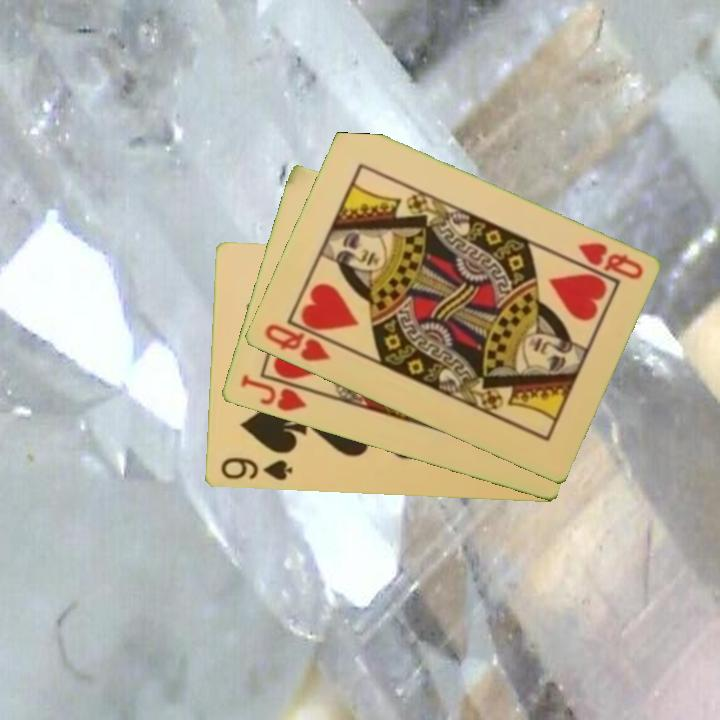9s: (217, 454, 295, 484)
Jh: (236, 371, 309, 415)
Qh: (260, 320, 334, 365), (574, 239, 646, 283)
